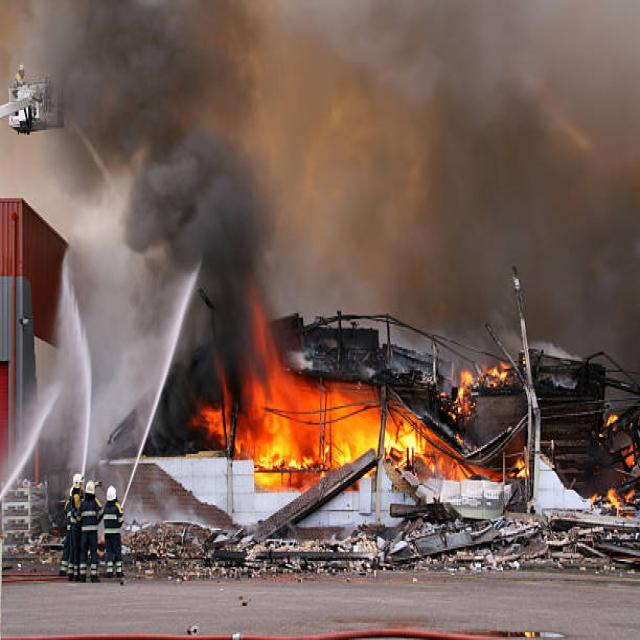Fire: (208, 371, 400, 484)
Smoke: (266, 0, 640, 356), (68, 4, 258, 400)
